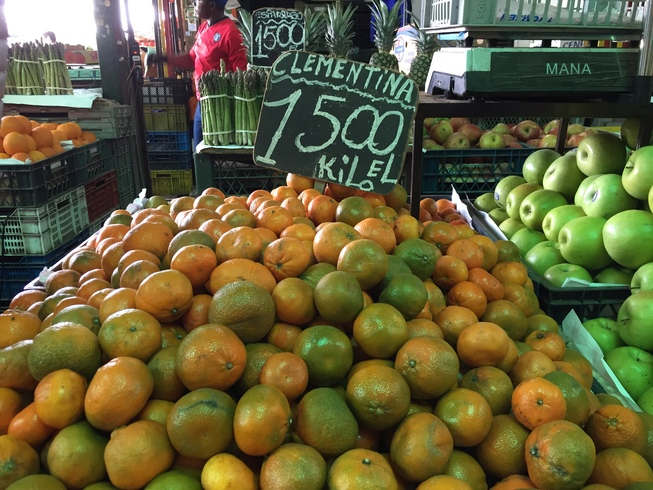precio: (263, 50, 411, 201), (247, 6, 313, 68)
